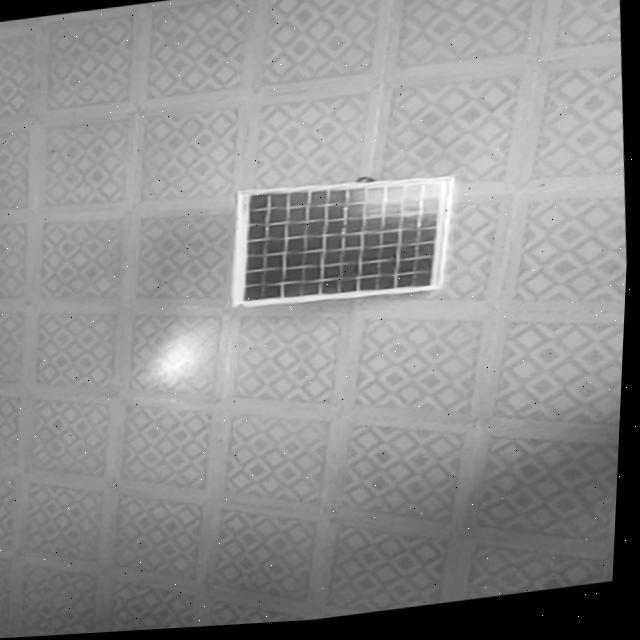Normal Solar Panel: (226, 168, 464, 318)
